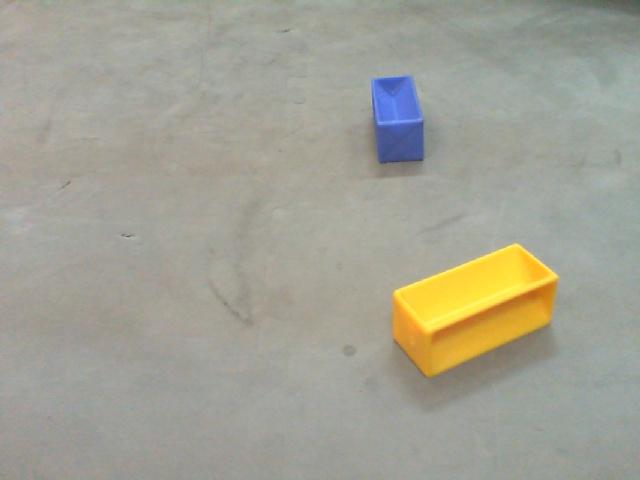BlueSample: (367, 74, 427, 164)
YellowSample: (389, 241, 568, 379)
